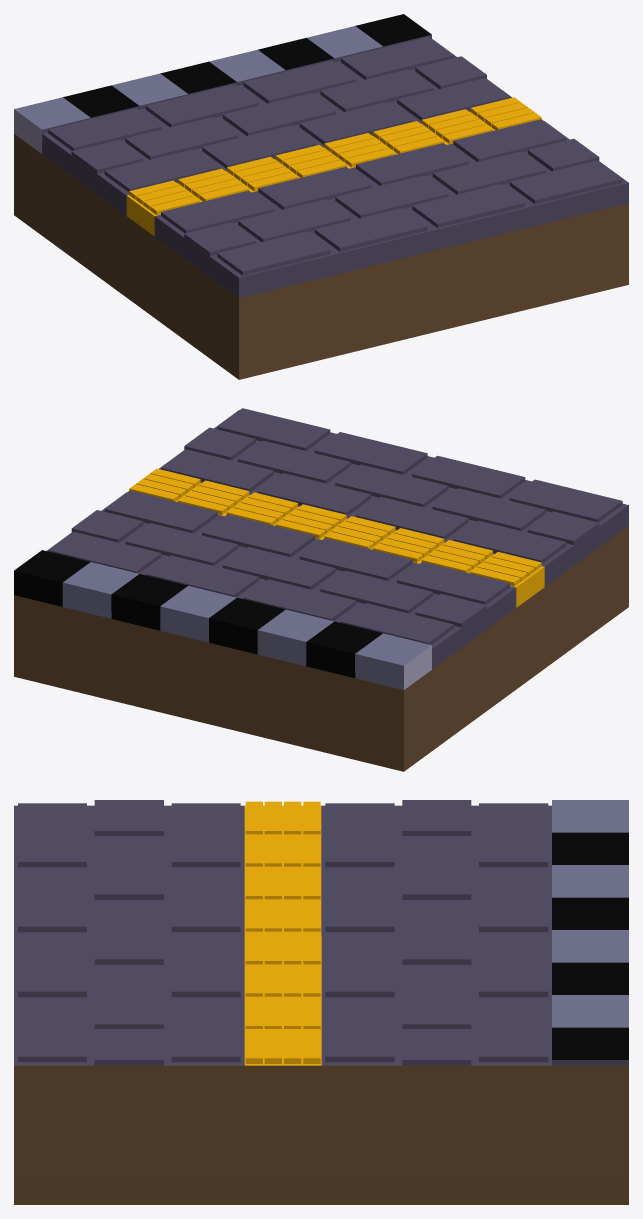
The model's file is trotoar_main.fbx.
3 views of the same model, one above another, from view 1: azimuth 30°, elevation 25°; view 2: azimuth 150°, elevation 25°; view 3: azimuth 270°, elevation 25° (orthographic). The views are drawn at different scales.
Visible parts, largest first — view 1: Cube.085; view 2: Cube.085; view 3: Cube.085.
Part boxes in pixels (x1,y1,x2,y2): Cube.085: (14, 14, 628, 379); Cube.085: (14, 408, 628, 771); Cube.085: (14, 800, 628, 1204).
Size of the model in its own units: 1000 by 260 by 1000.
Materials: 1 (1 with a texture image).
